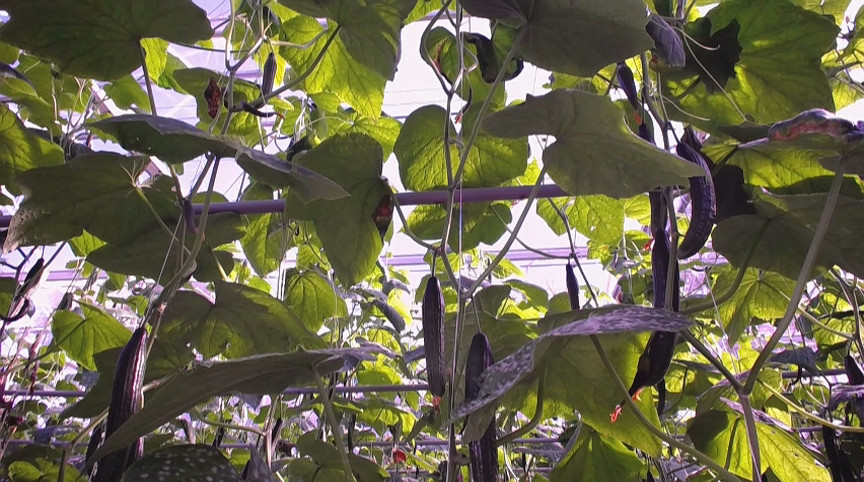cucumber: (102, 327, 149, 471), (639, 229, 681, 385), (464, 333, 501, 481), (676, 143, 713, 262), (423, 276, 445, 395)
